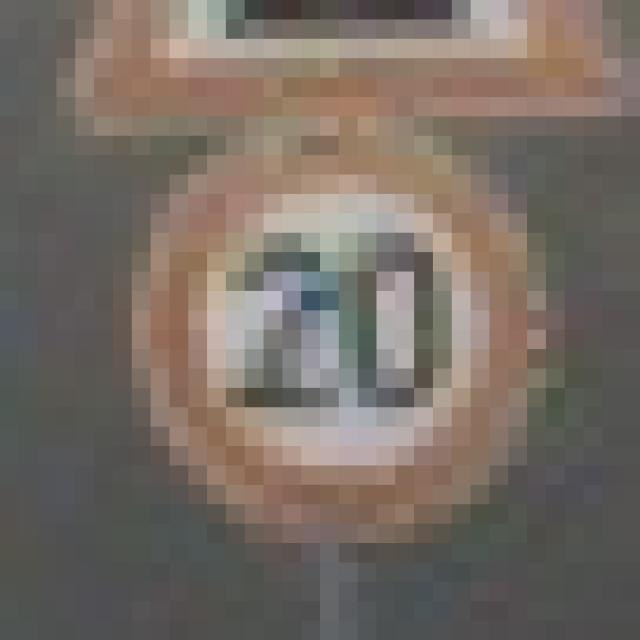Speed Limit -20-: (113, 116, 546, 543)
